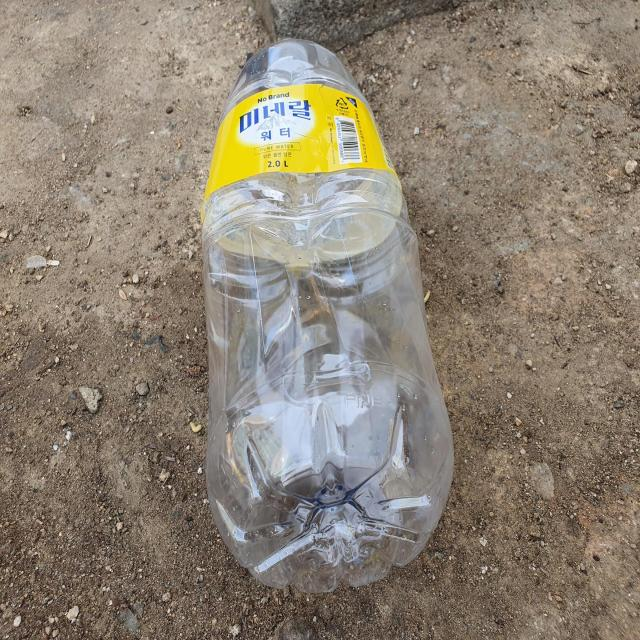plastic: (201, 38, 454, 594)
